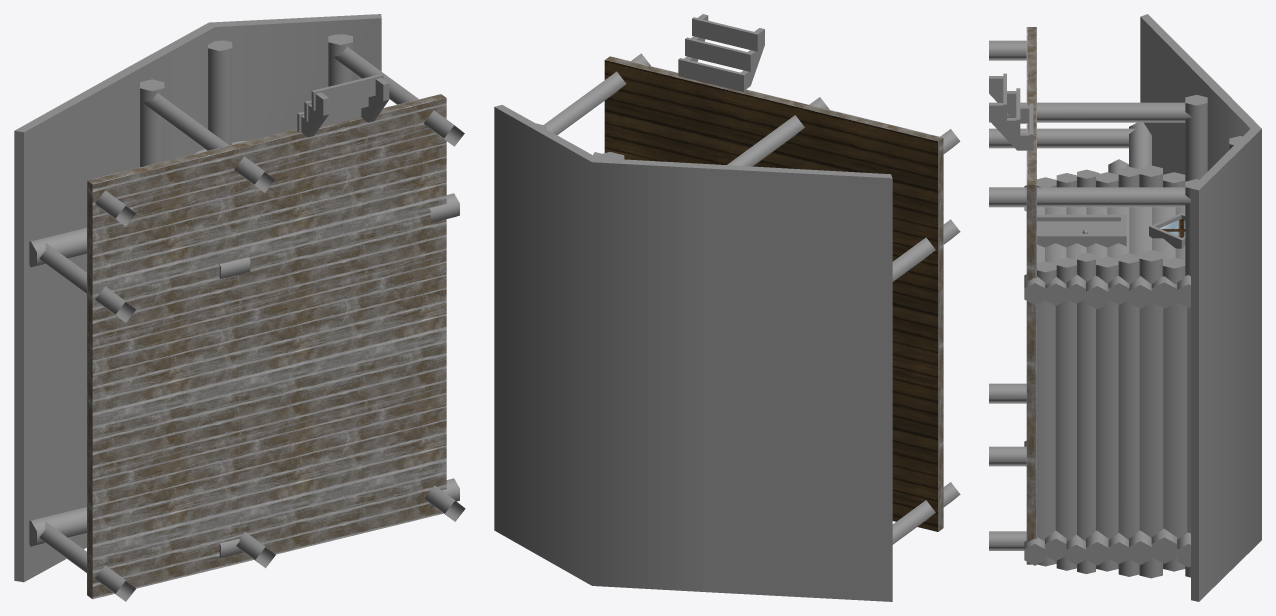
File: Log_House_E.fbx
The picture shows the model from 3 angles, left to right: view 1: azimuth 30°, elevation 25°; view 2: azimuth 150°, elevation 25°; view 3: azimuth 270°, elevation 25°; orthographic projection. The views are drawn at different scales.
Visible parts, largest first — view 1: Log_House_E; view 2: Log_House_E; view 3: Log_House_E.
Boxes of the visible parts, bbox=[...] form: Log_House_E: bbox=[14, 14, 465, 601]; Log_House_E: bbox=[494, 14, 960, 601]; Log_House_E: bbox=[989, 14, 1261, 601].
Bounding box in the file's own units: 1.12 × 1.34 × 0.7329.
